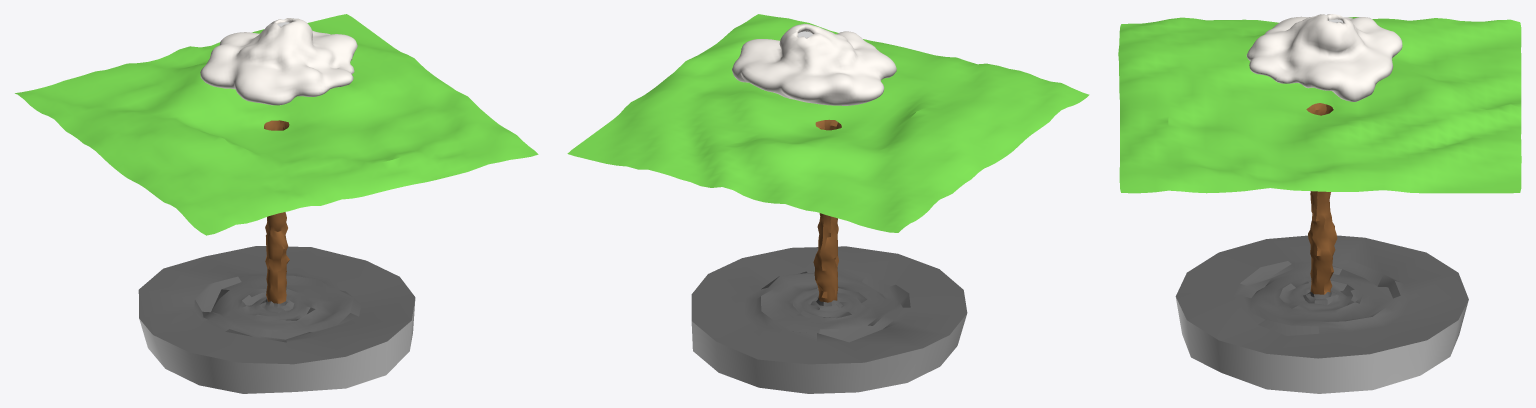
File: RaceTOHeaven.fbx
3 views of the same model, side by side, from view 1: azimuth 30°, elevation 25°; view 2: azimuth 150°, elevation 25°; view 3: azimuth 270°, elevation 25° (orthographic). The views are drawn at different scales.
Parts seen in each view (by area): view 1: Map, Clouds; view 2: Map, Clouds; view 3: Map, Clouds.
Boxes of the visible parts, box(x1,y1,x2,y2) form: Map: box(15, 14, 538, 393); Clouds: box(200, 18, 357, 105); Map: box(567, 14, 1089, 393); Clouds: box(732, 23, 896, 105); Map: box(1118, 17, 1521, 393); Clouds: box(1246, 14, 1402, 101).
Size of the model in its own units: 4276 by 3864 by 4267.
